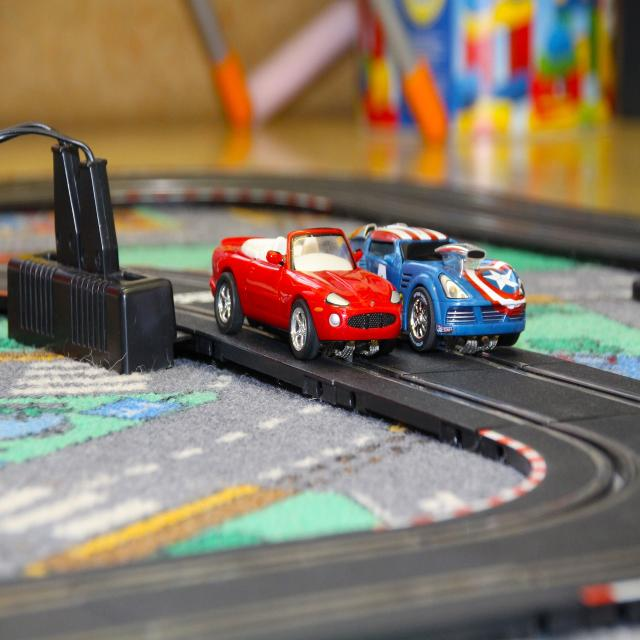Car: (209, 226, 404, 361), (341, 221, 526, 355)
